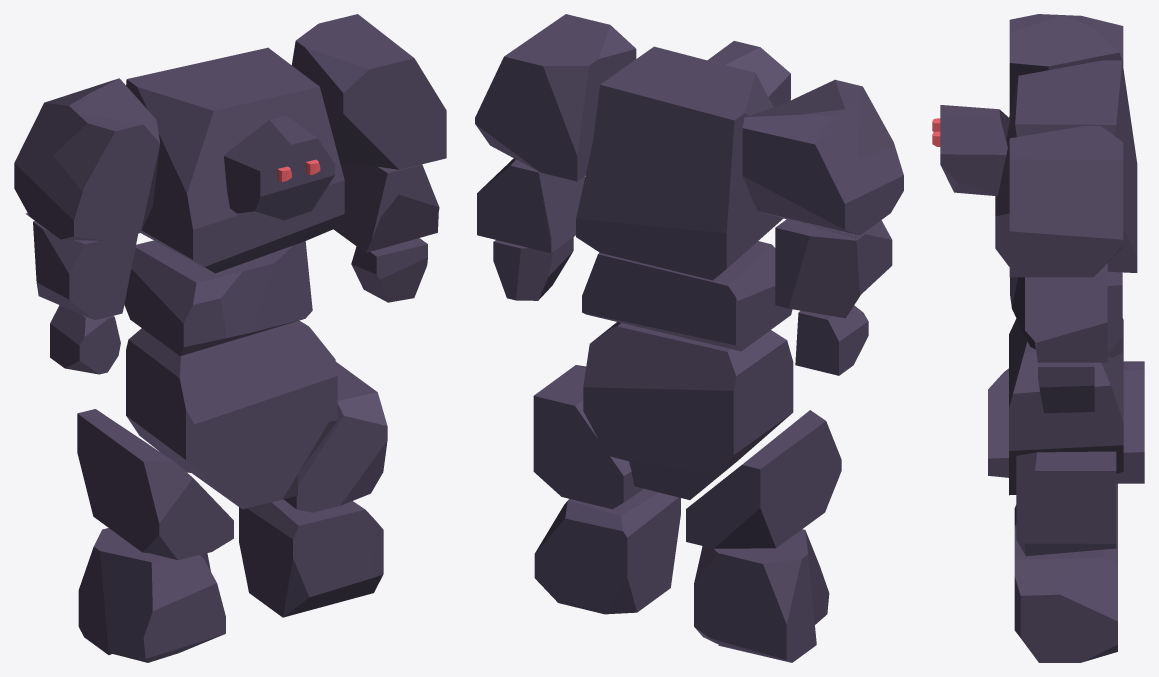
Rendered from Golem.fbx.
3 renders of one model, left to right at view 1: azimuth 30°, elevation 25°; view 2: azimuth 150°, elevation 25°; view 3: azimuth 270°, elevation 25°, orthographic. The views are drawn at different scales.
Visible parts, largest first — view 1: Cube, Cube.002, Cube.003, Cube.004, Cube.001, Cube.012, Cube.010, Cube.013, Cube.005, Cube.011, Cube.007, Cube.006 (+2 smaller); view 2: Cube.002, Cube, Cube.003, Cube.004, Cube.013, Cube.001, Cube.012, Cube.010, Cube.006, Cube.011, Cube.007, Cube.008 (+2 smaller); view 3: Cube.004, Cube.002, Cube.013, Cube.011, Cube, Cube.007, Cube.003, Cube.005, Cube.010, Cube.009, Cube.001.
Boxes of the visible parts, box(x1,y1,x2,y2) form: Cube: box(126, 320, 337, 509); Cube.002: box(126, 47, 344, 273); Cube.003: box(14, 78, 160, 240); Cube.004: box(291, 14, 446, 169); Cube.001: box(124, 240, 312, 356); Cube.012: box(78, 528, 225, 662); Cube.010: box(77, 409, 233, 560); Cube.013: box(239, 499, 383, 617); Cube.005: box(224, 115, 335, 220); Cube.011: box(284, 362, 387, 512); Cube.007: box(333, 163, 439, 252); Cube.006: box(33, 221, 137, 319); Cube.002: box(576, 46, 783, 280); Cube: box(583, 322, 793, 499); Cube.003: box(742, 79, 903, 238); Cube.004: box(475, 14, 636, 181); Cube.013: box(534, 488, 680, 614); Cube.001: box(582, 241, 792, 351); Cube.012: box(694, 529, 829, 662); Cube.010: box(686, 410, 841, 548); Cube.006: box(775, 219, 892, 318); Cube.011: box(533, 365, 643, 509); Cube.007: box(477, 158, 584, 253); Cube.008: box(795, 305, 868, 375); Cube.004: box(1009, 126, 1123, 277); Cube.002: box(995, 60, 1137, 272); Cube.013: box(1014, 528, 1117, 662); Cube.011: box(1016, 451, 1116, 556); Cube: box(1009, 318, 1123, 495); Cube.007: box(1025, 263, 1107, 362); Cube.003: box(1009, 14, 1123, 113); Cube.005: box(940, 105, 1010, 196); Cube.010: box(988, 361, 1144, 483); Cube.009: box(1038, 362, 1094, 413); Cube.001: box(1010, 271, 1122, 357).
Size of the model in its own units: 1013 by 1401 by 515.
